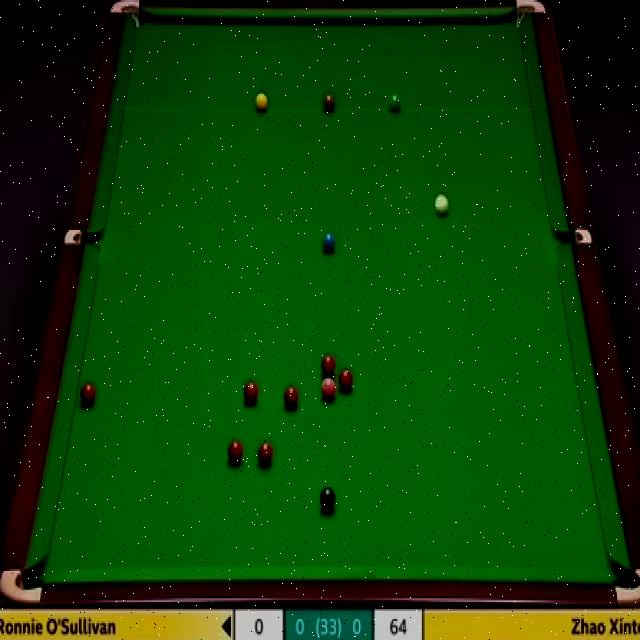black-ball: (320, 486, 337, 511)
blue-ball: (321, 230, 336, 252)
brown-ball: (322, 94, 336, 112)
green-ball: (388, 92, 402, 114)
pink-ball: (320, 377, 338, 402)
red-ball: (255, 442, 275, 469), (282, 384, 300, 410), (226, 439, 244, 464), (80, 383, 97, 406), (338, 369, 354, 393), (244, 380, 258, 405), (321, 353, 336, 376)
white-ball: (432, 190, 450, 216)
yellow-ball: (254, 90, 268, 112)
